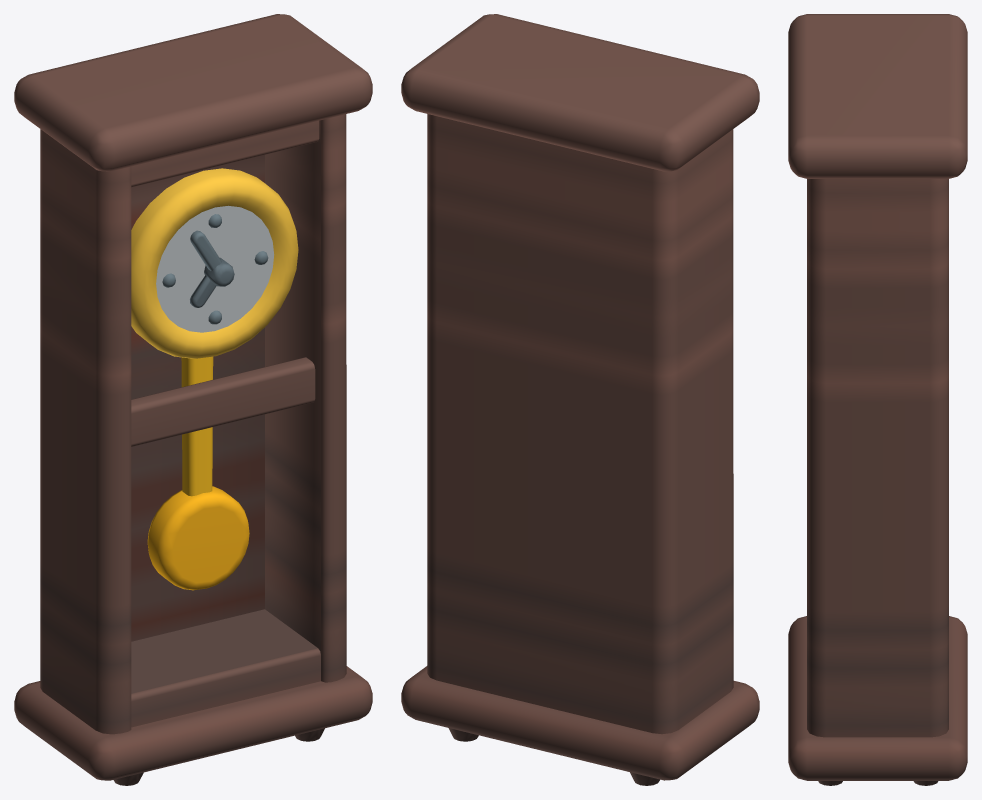
Rendered from clock-03.glb.
3 renders of one model, left to right at view 1: azimuth 30°, elevation 25°; view 2: azimuth 150°, elevation 25°; view 3: azimuth 270°, elevation 25°, orthographic.
Visible parts, largest first — view 1: Clock_03; view 2: Clock_03; view 3: Clock_03.
Part boxes in pixels (bbox=[...]): Clock_03: bbox=[14, 14, 372, 785]; Clock_03: bbox=[401, 14, 759, 785]; Clock_03: bbox=[788, 14, 967, 785].
Bounding box in the file's own units: 0.68 × 1.55 × 0.38.
Materials: 1 (1 with a texture image).
